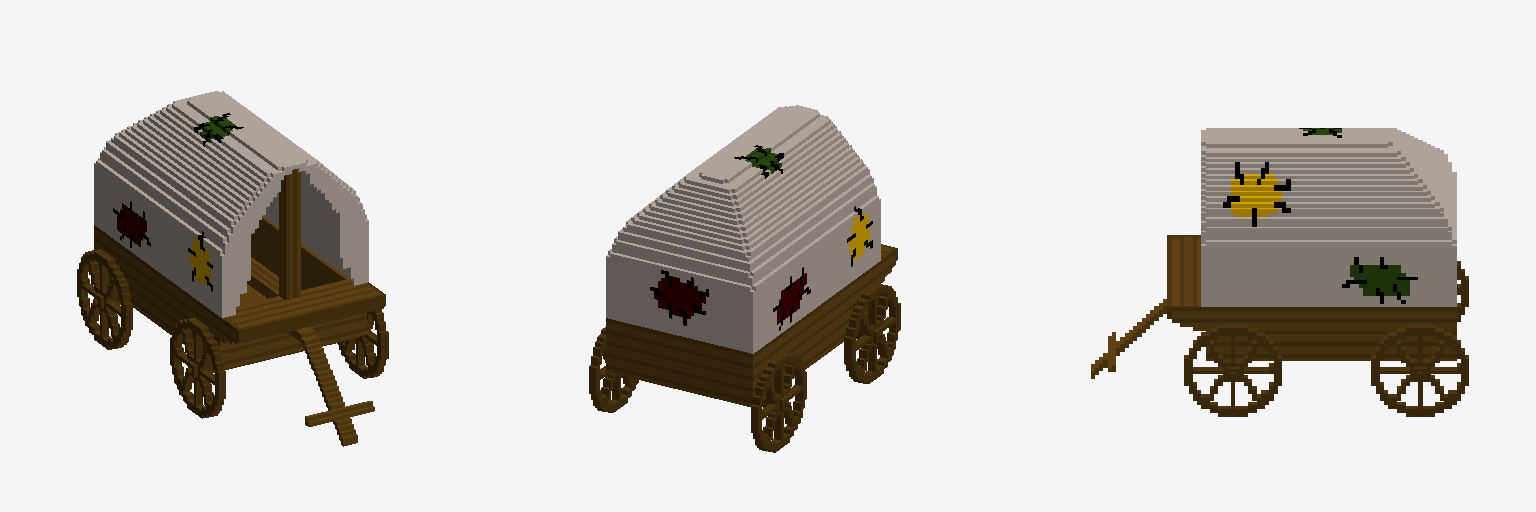
3 views of the same model, side by side, from view 1: azimuth 30°, elevation 25°; view 2: azimuth 150°, elevation 25°; view 3: azimuth 270°, elevation 25° (orthographic).
Parts seen in each view (by area): view 1: caravan; view 2: caravan; view 3: caravan.
Part boxes in pixels (left/top/right/bottom): caravan: left=77, top=91, right=388, bottom=446; caravan: left=589, top=105, right=900, bottom=452; caravan: left=1091, top=128, right=1468, bottom=416.
Bounding box in the file's own units: 50 × 62 × 89.
Materials: 1 (1 with a texture image).